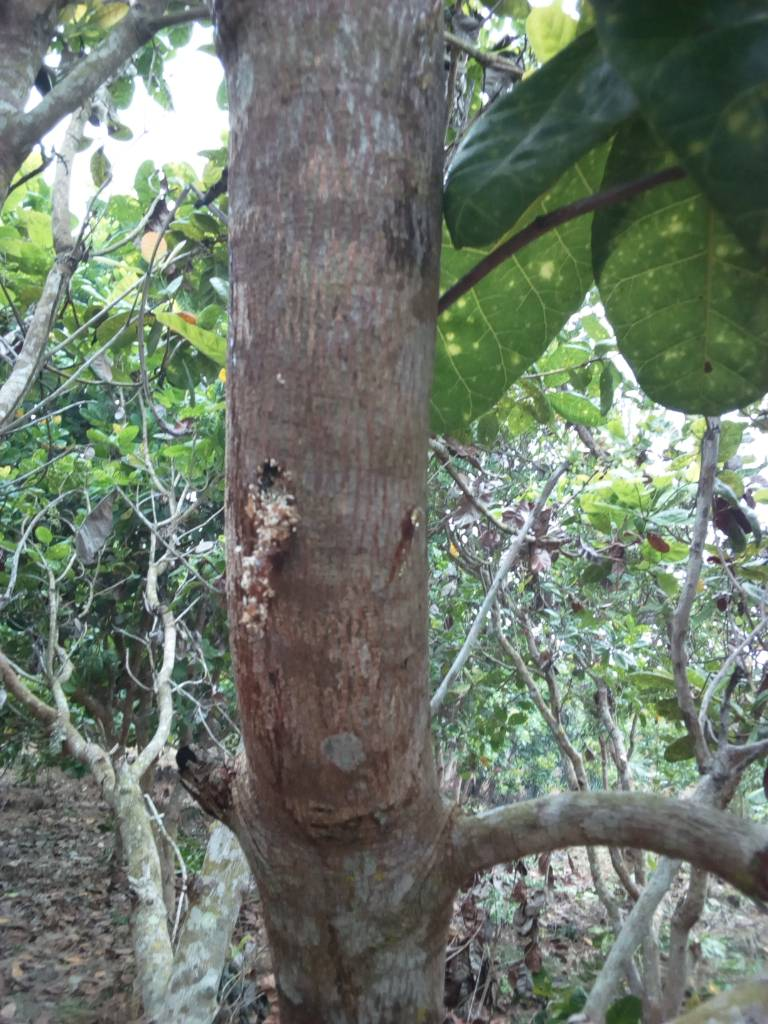Apate terebrans: (197, 426, 357, 610)
